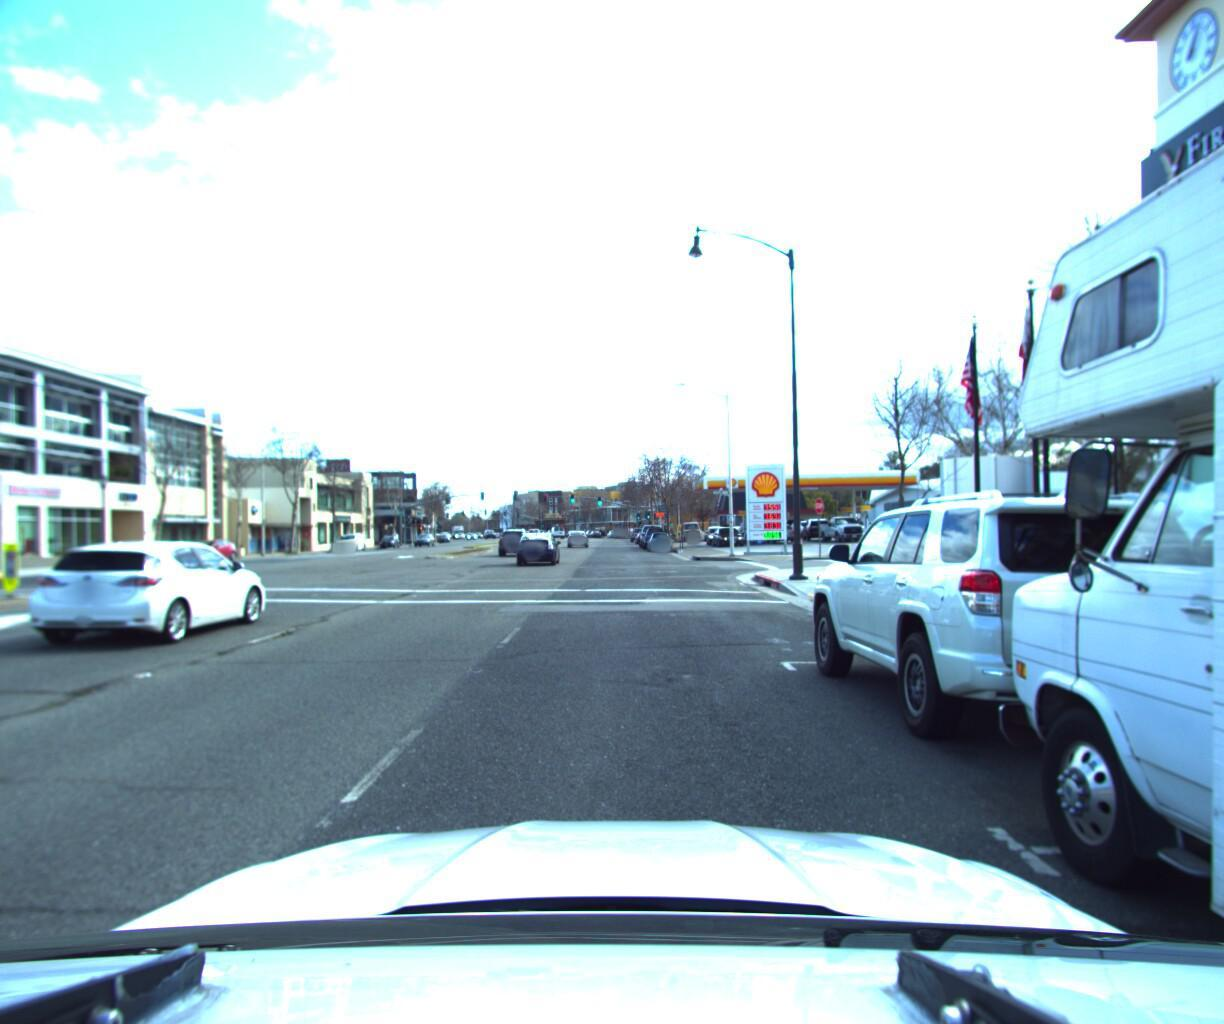car: (792, 471, 1224, 769), (16, 533, 277, 653), (861, 505, 945, 542), (511, 525, 561, 562), (180, 535, 240, 562), (815, 510, 867, 537), (792, 510, 834, 535), (498, 525, 532, 553), (332, 529, 369, 550), (638, 521, 668, 545), (708, 523, 741, 541), (645, 525, 672, 547), (677, 515, 701, 535), (564, 526, 585, 544)
